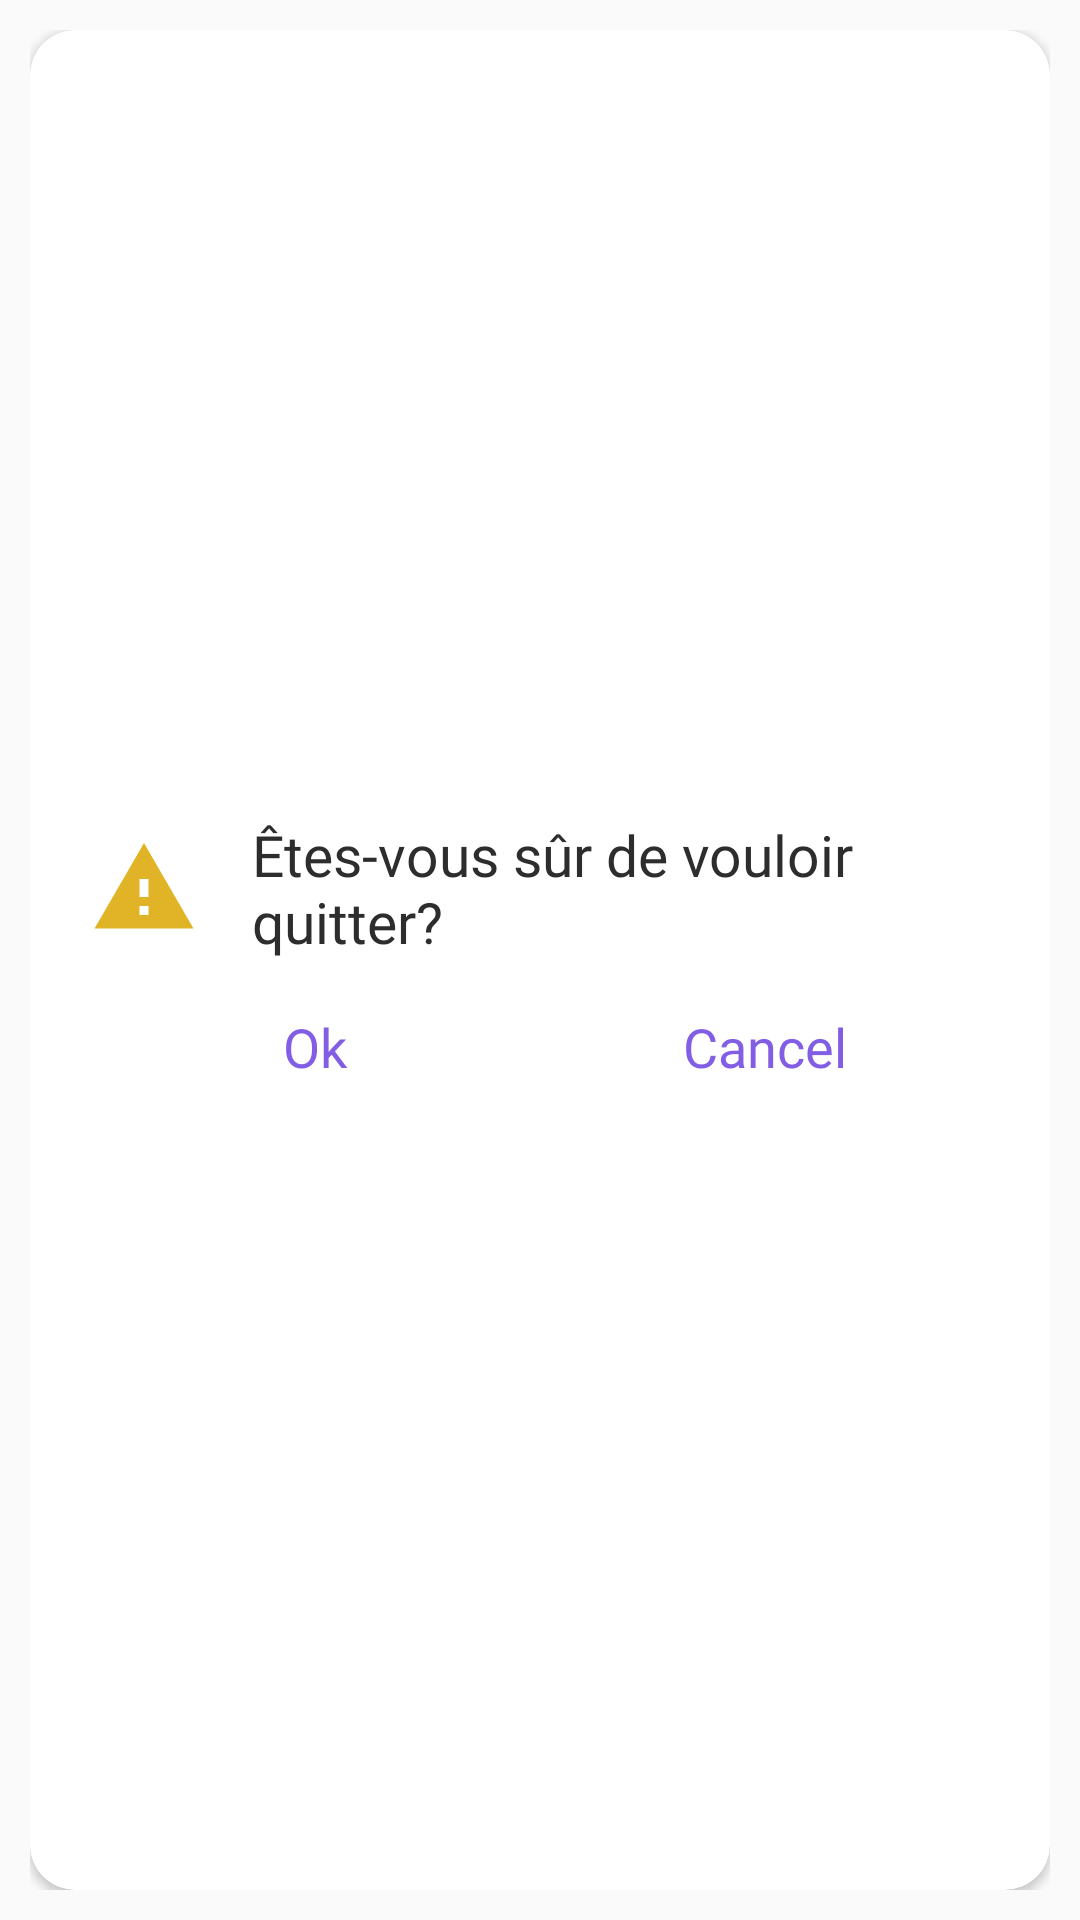

Icons on this 1080x1920 Android screen, each with the point to tap as (x=x, y=y):
warning: (x=144, y=886)
